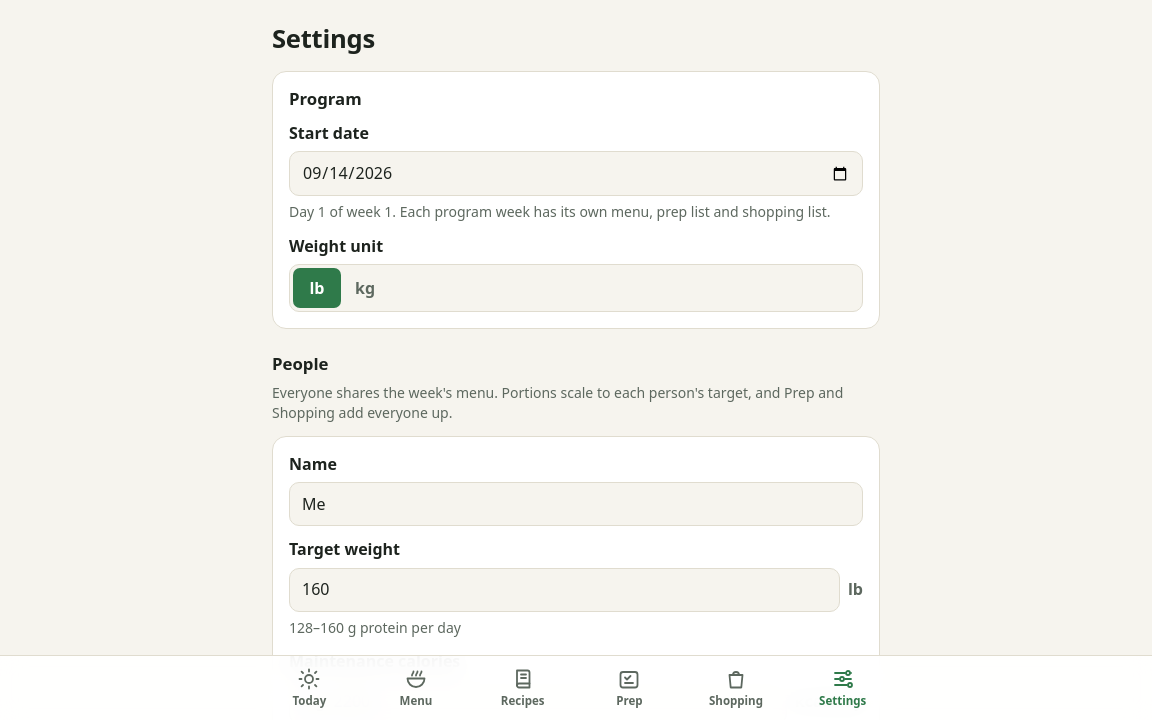
Test: Settings › keeps a saved weight when the browser cannot parse the typed text
Clear the number field labelled "Target weight" at [564, 590], box [289,568,840,612]
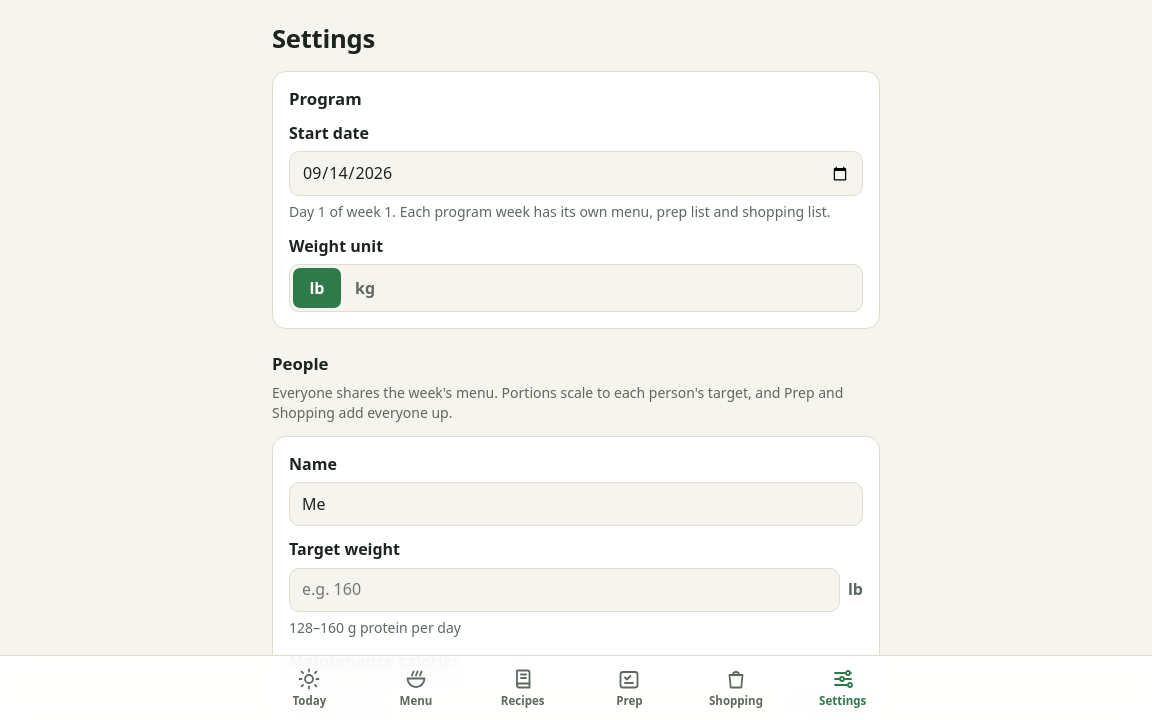
Leave the number field labelled "Target weight", box [289,568,840,612]
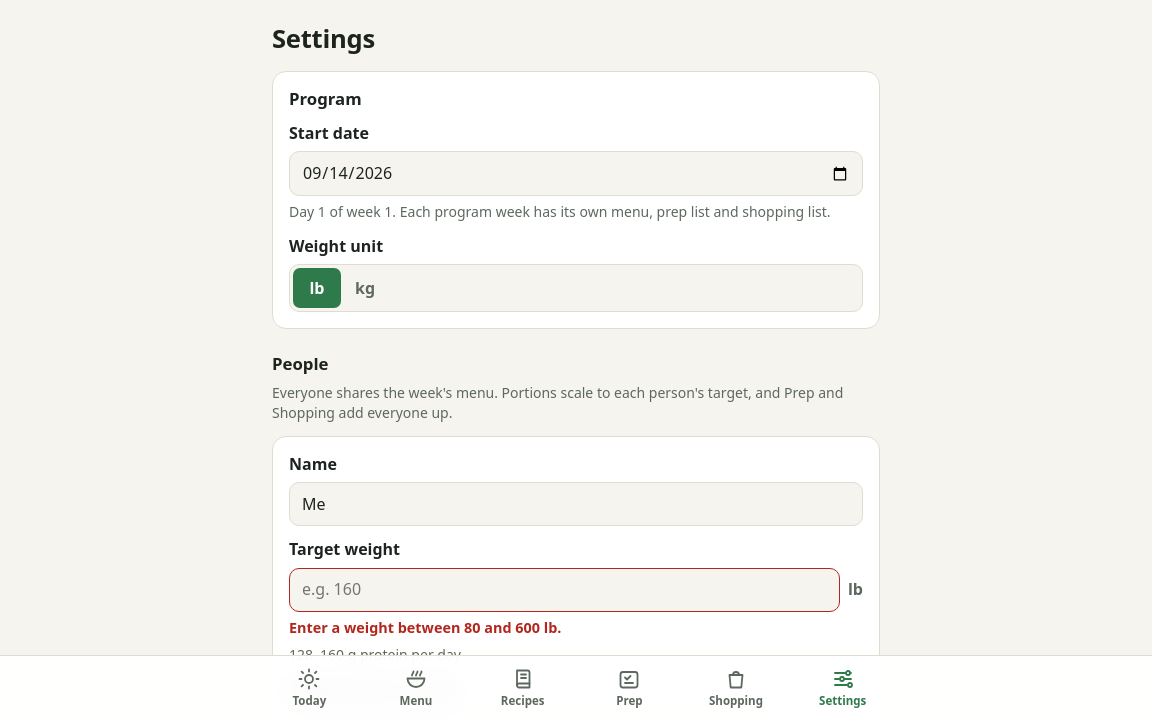
Now the text "Enter a weight between 80 and 600 lb." is shown, box [289,618,561,637]
